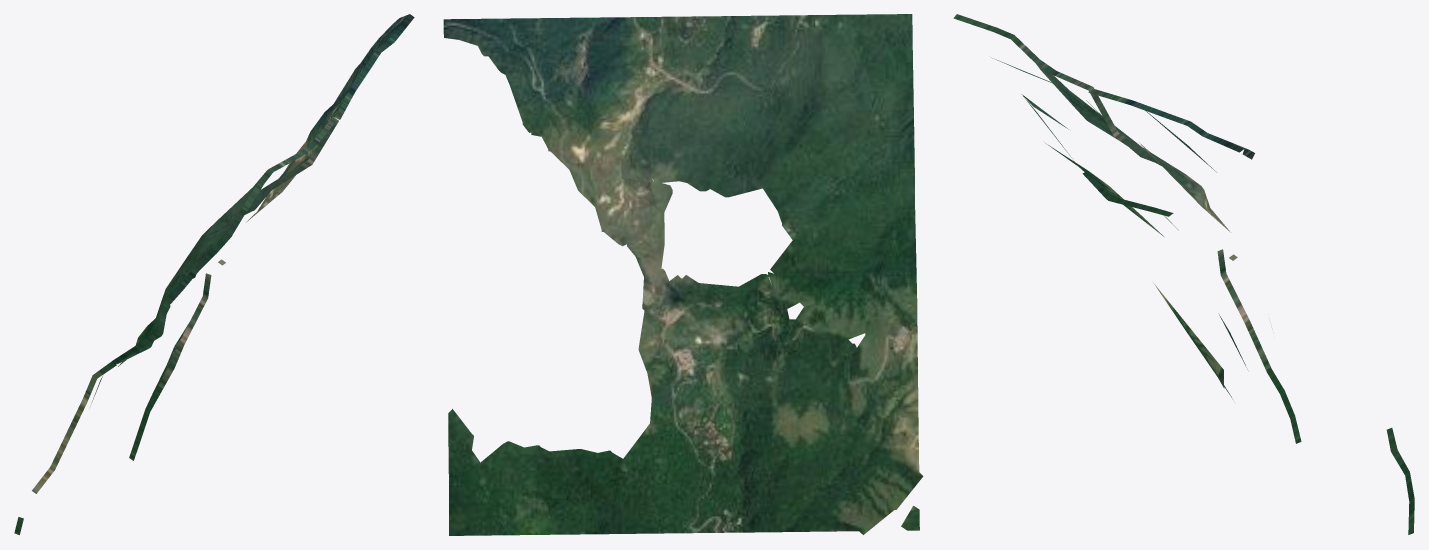
The picture shows the model from 3 angles, left to right: view 1: azimuth 30°, elevation 25°; view 2: azimuth 150°, elevation 25°; view 3: azimuth 270°, elevation 25°; orthographic projection. The views are drawn at different scales.
Bounding box in the file's own units: 2455 × 2268 × 2200.
Materials: 1 (1 with a texture image).
